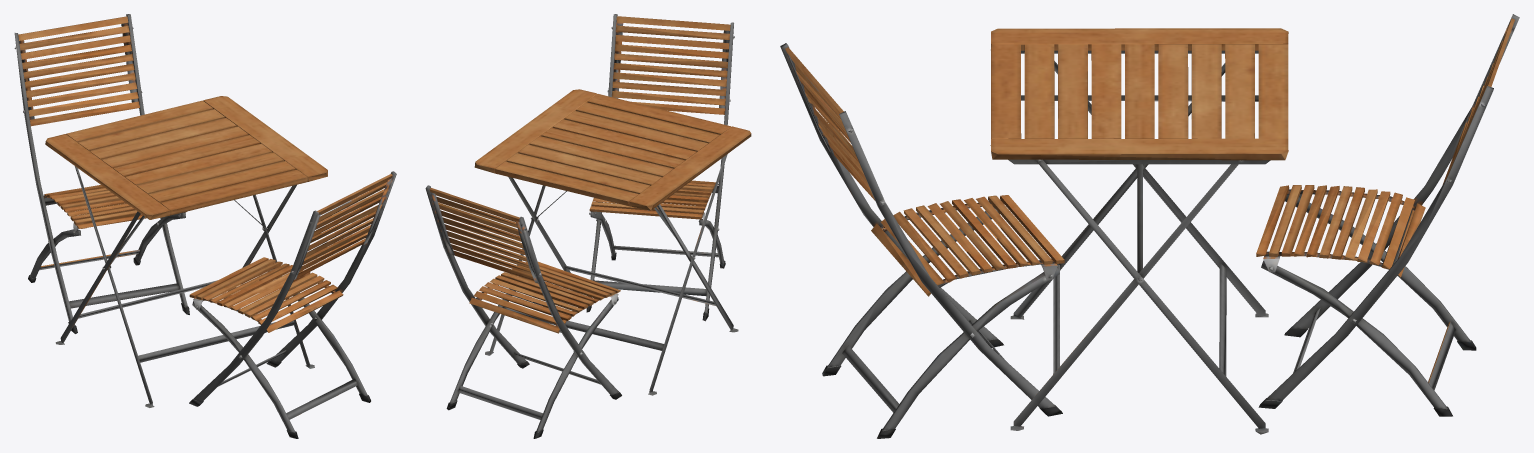
File: v3_cafe_set.fbx
3 views of the same model, side by side, from view 1: azimuth 30°, elevation 25°; view 2: azimuth 150°, elevation 25°; view 3: azimuth 270°, elevation 25° (orthographic). The views are drawn at different scales.
Parts seen in each view (by area): view 1: v3_cafe_set_LOD0; view 2: v3_cafe_set_LOD0; view 3: v3_cafe_set_LOD0.
Part boxes in pixels (left/top/right/bottom): v3_cafe_set_LOD0: left=14, top=14, right=396, bottom=438; v3_cafe_set_LOD0: left=425, top=14, right=751, bottom=438; v3_cafe_set_LOD0: left=780, top=14, right=1519, bottom=438.
Size of what is drawn, in the model's own units: 0.7407 by 0.858 by 1.72.
1 material, 1 textured.
